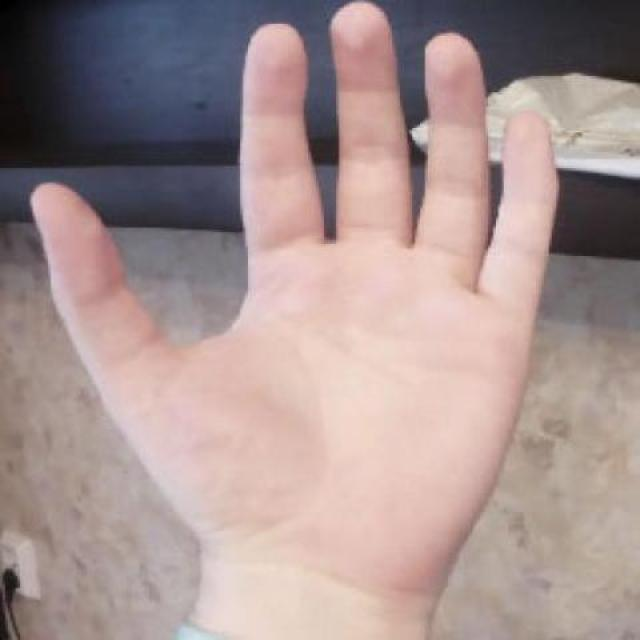Open Hand: (28, 0, 564, 640)
